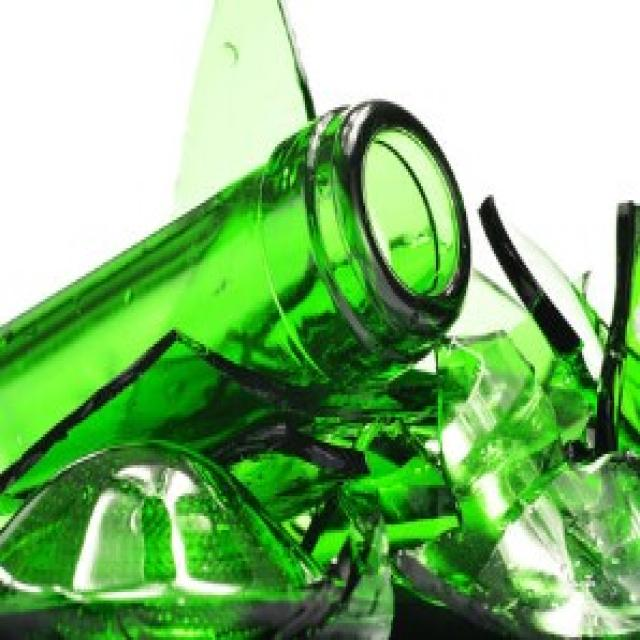electronic: (0, 93, 475, 640)
